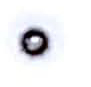cancer: (7, 10, 71, 69)
